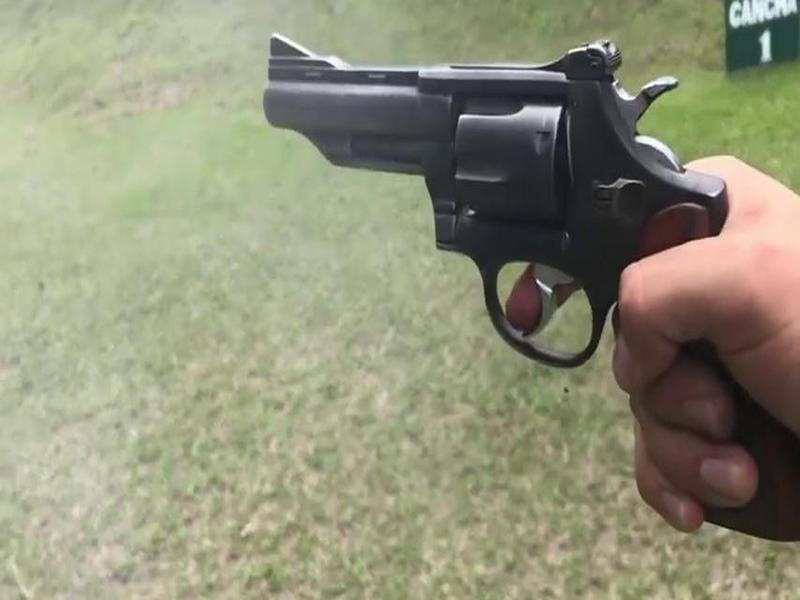Revolver: (253, 27, 766, 397)
